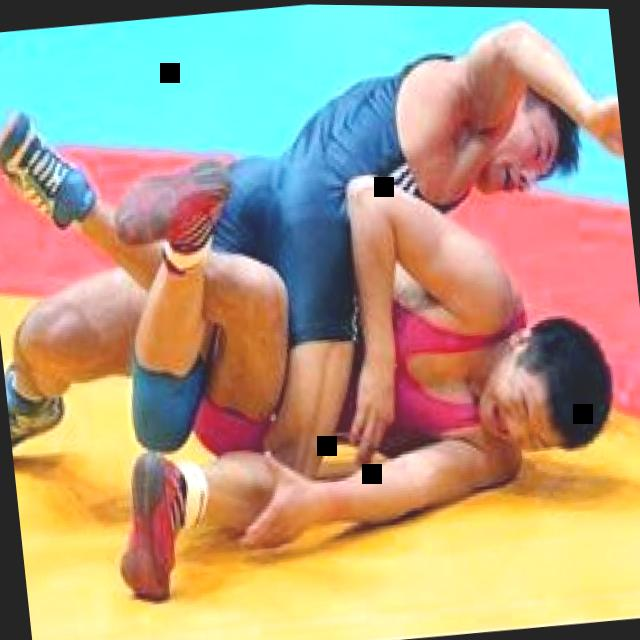Fall-Detected: (6, 0, 640, 597)
